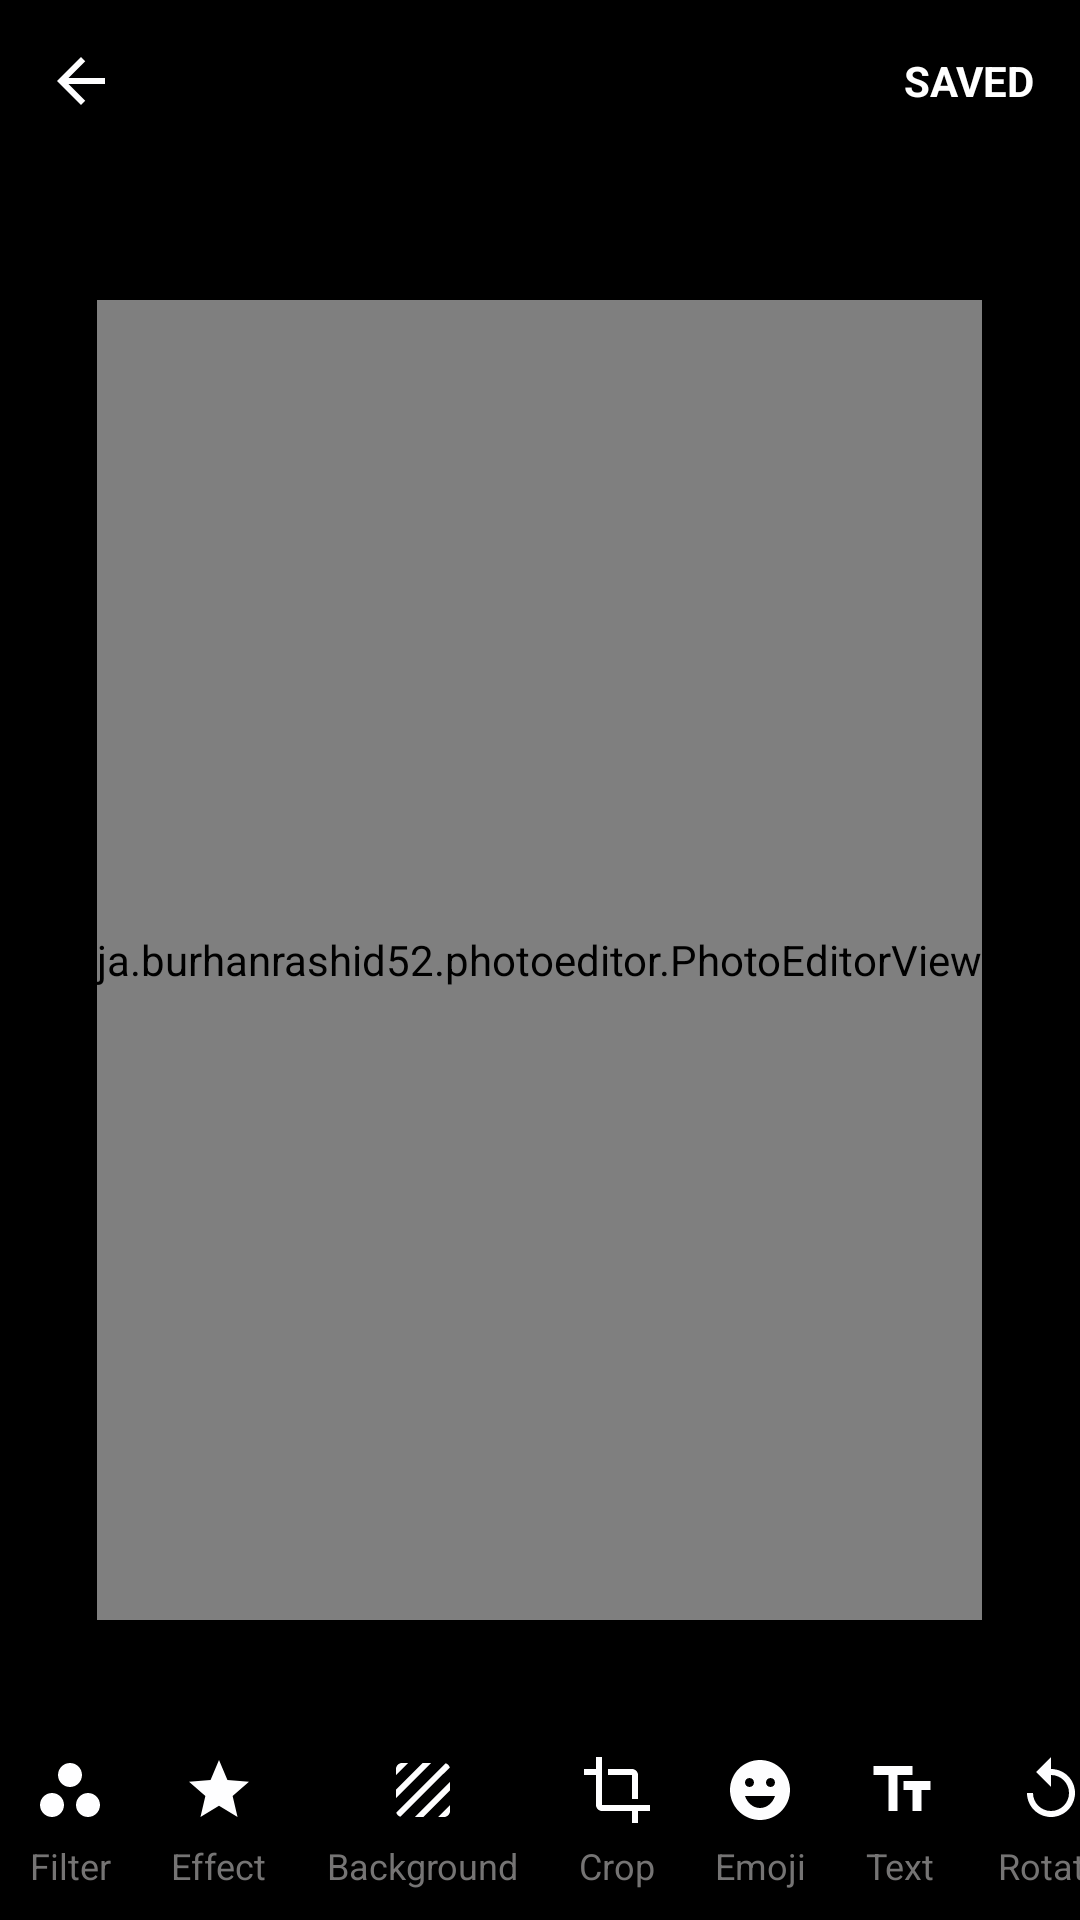

Named icons in this screenshot (1080×1920) and their bounding boxes, (x1, y1, x2, y2):
arrow back: (57, 57, 105, 105)
